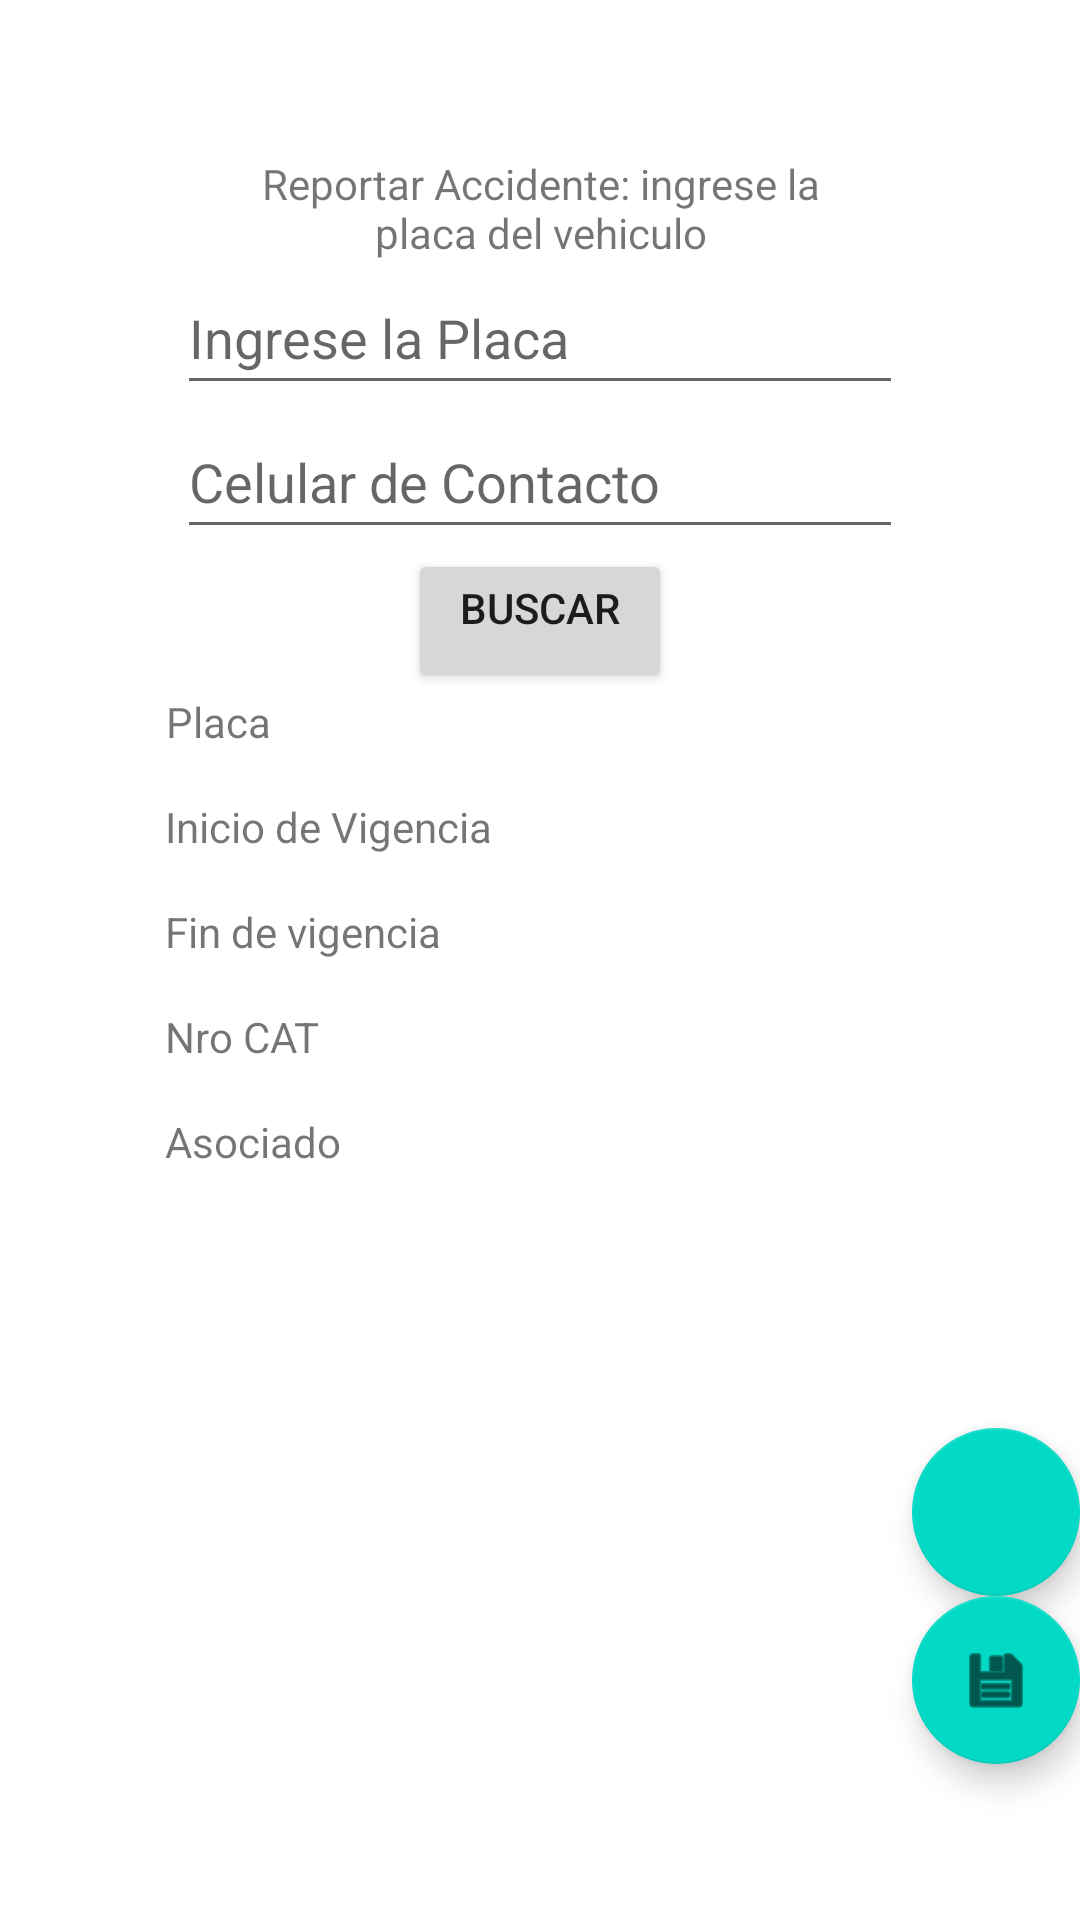

Screen size 1080×1920. Icon name, then its center in pixels as [x,y]:
save: [996,1680]
